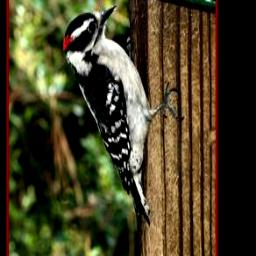Woodpecker: (61, 4, 187, 222)
